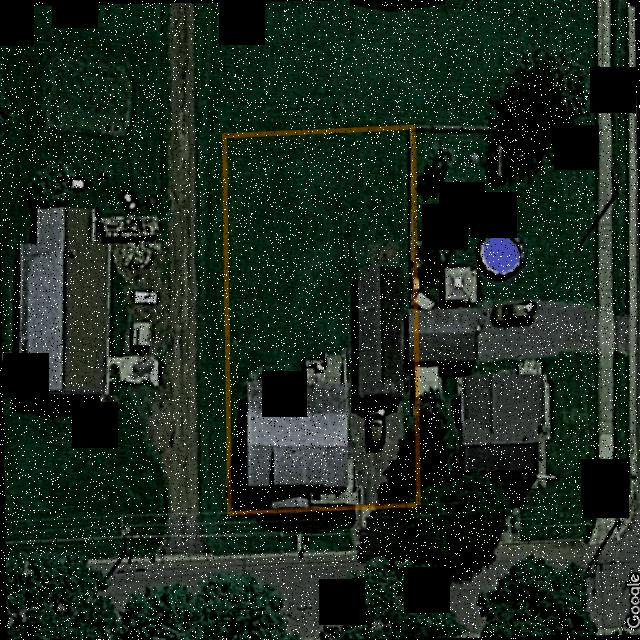Driveway: (350, 413, 405, 502)
House: (245, 382, 347, 489)
Other: (351, 265, 403, 411), (303, 354, 346, 380)
